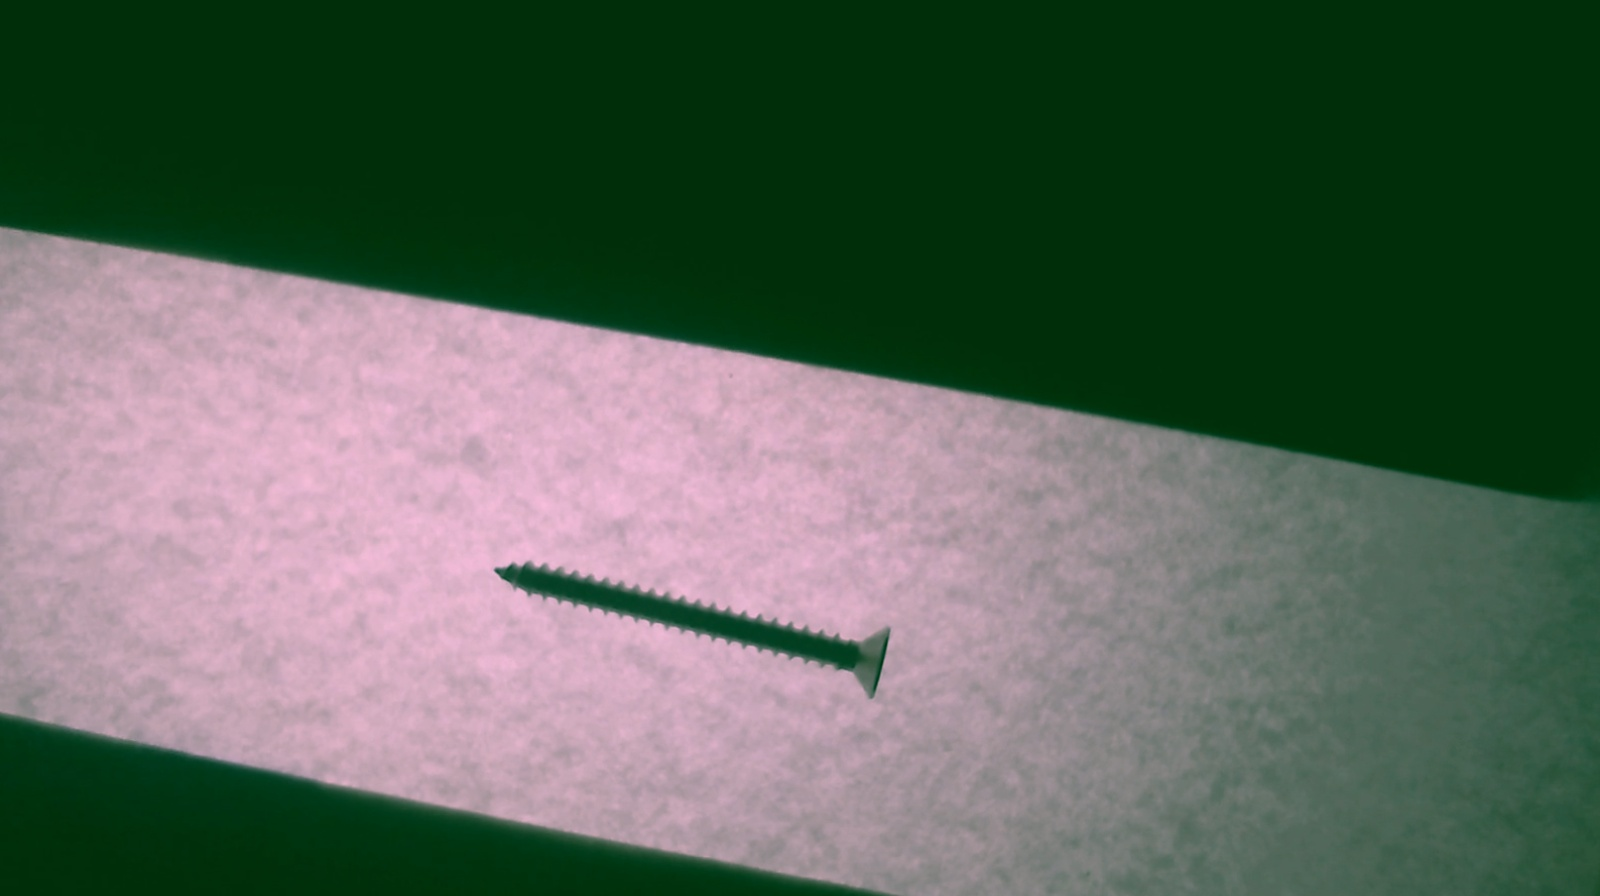S002: (463, 540, 910, 714)
